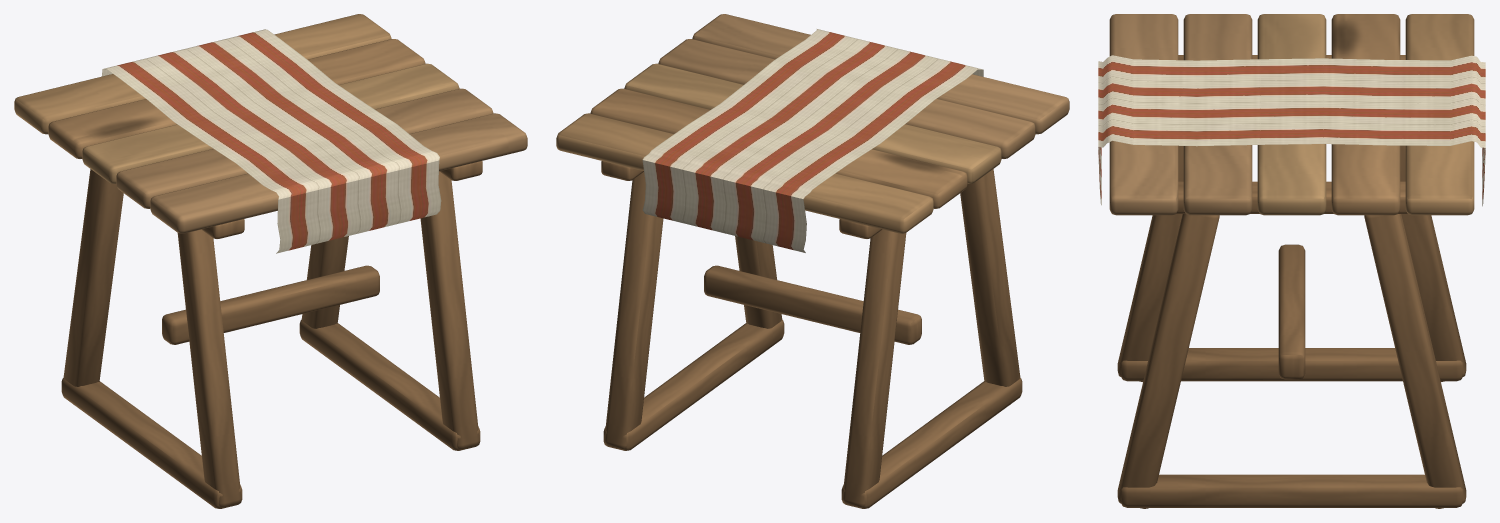
Rendered from study-table.glb.
3 renders of one model, left to right at view 1: azimuth 30°, elevation 25°; view 2: azimuth 150°, elevation 25°; view 3: azimuth 270°, elevation 25°, orthographic. The views are drawn at different scales.
Parts seen in each view (by area): view 1: study-table; view 2: study-table; view 3: study-table.
Part boxes in pixels (bbox=[...]): study-table: bbox=[14, 14, 527, 508]; study-table: bbox=[556, 14, 1069, 508]; study-table: bbox=[1098, 14, 1485, 508].
Size of the model in its own units: 1 by 0.859 by 0.88.
2 materials, 2 textured.
